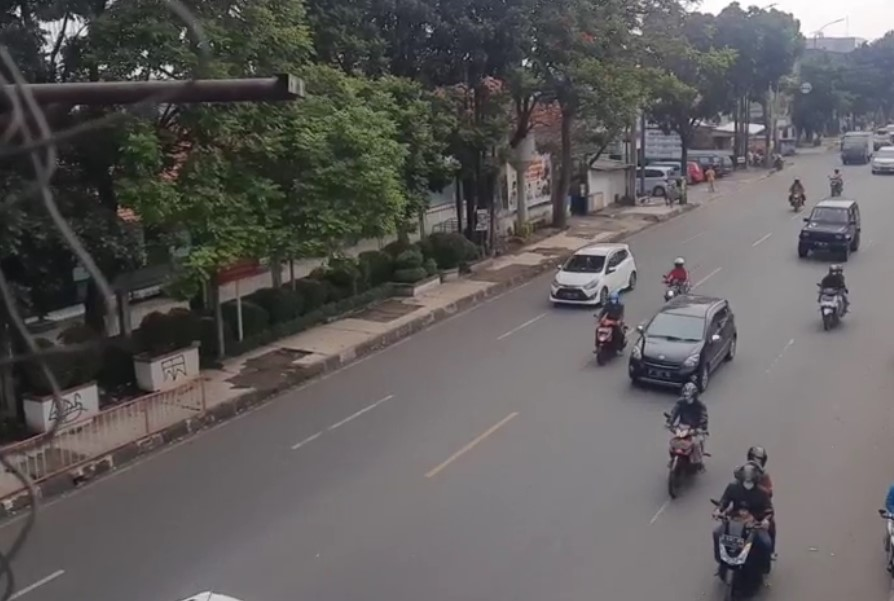motor: (707, 448, 780, 595), (655, 387, 715, 495), (812, 260, 855, 331), (588, 294, 630, 364), (651, 251, 697, 307)
